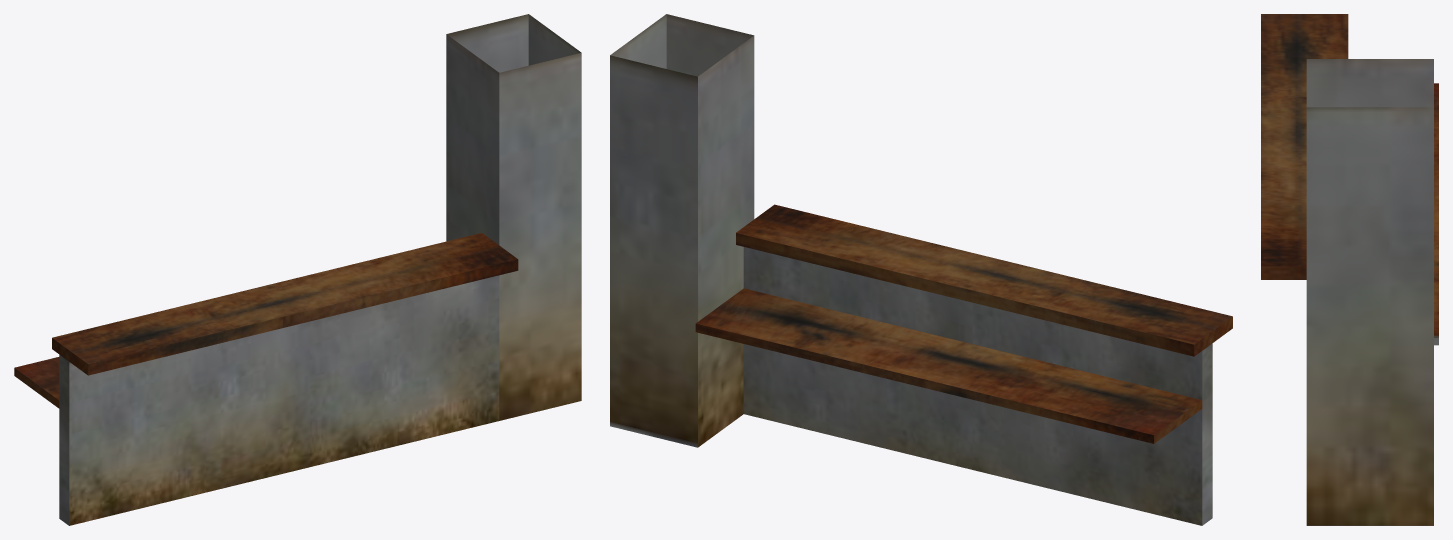
File: lobby_front_desk.FBX
3 renders of one model, left to right at view 1: azimuth 30°, elevation 25°; view 2: azimuth 150°, elevation 25°; view 3: azimuth 270°, elevation 25°, orthographic. The views are drawn at different scales.
Visible parts, largest first — view 1: front_desk, lobby_pillar; view 2: front_desk, lobby_pillar; view 3: lobby_pillar, front_desk.
Part boxes in pixels (x1=…): front_desk: x1=14, y1=233, x2=518, y2=525; lobby_pillar: x1=446, y1=14, x2=581, y2=420; front_desk: x1=695, y1=204, x2=1232, y2=525; lobby_pillar: x1=610, y1=14, x2=754, y2=447; lobby_pillar: x1=1306, y1=59, x2=1433, y2=525; front_desk: x1=1261, y1=14, x2=1438, y2=345.
Size of the model in its own units: 217 by 141 by 54.32.
